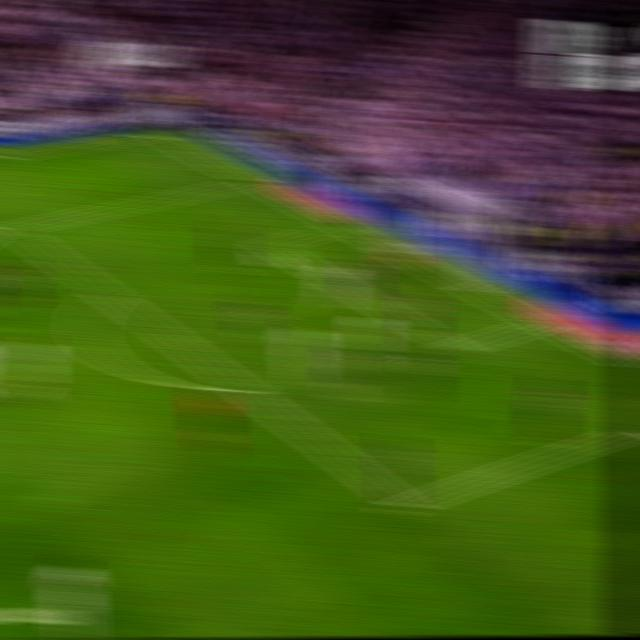bigarea_top_inner: (0, 217, 27, 237)
bigarea_top_outter: (237, 173, 263, 188)
bottom_arc_area_intersection: (227, 377, 259, 400)
corner: (142, 127, 170, 140)
smallarea_bottom_inner: (443, 337, 470, 360)
smallarea_top_inner: (257, 236, 282, 252)
top_arc_area_intersection: (93, 282, 122, 304)
